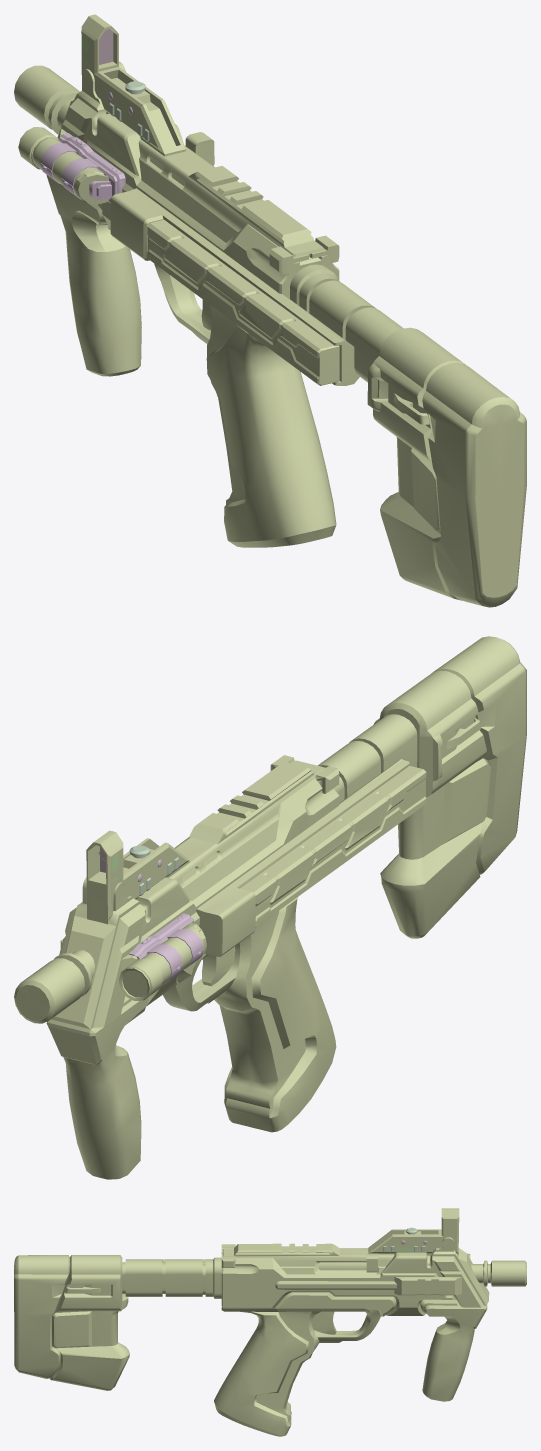
The picture shows the model from 3 angles, top to bottom: view 1: azimuth 30°, elevation 25°; view 2: azimuth 150°, elevation 25°; view 3: azimuth 270°, elevation 25°; orthographic projection. The views are drawn at different scales.
Parts seen in each view (by area): view 1: w_m7a_w_m7_body_base, w_m7a_w_m7_body_mag, w_m7a_w_m7_optic_m7s_reflex, w_m7a_w_m7_att_flashlight, w_m7a_w_m7_barrel; view 2: w_m7a_w_m7_body_base, w_m7a_w_m7_body_mag, w_m7a_w_m7_optic_m7s_reflex, w_m7a_w_m7_att_flashlight, w_m7a_w_m7_barrel; view 3: w_m7a_w_m7_body_base, w_m7a_w_m7_optic_m7s_reflex, w_m7a_w_m7_barrel.
Boxes of the visible parts, box(x1,y1,x2,y2) form: w_m7a_w_m7_body_base: box(46, 61, 526, 607); w_m7a_w_m7_body_mag: box(147, 220, 339, 385); w_m7a_w_m7_optic_m7s_reflex: box(81, 14, 185, 156); w_m7a_w_m7_att_flashlight: box(18, 127, 125, 204); w_m7a_w_m7_barrel: box(14, 65, 79, 134); w_m7a_w_m7_body_base: box(46, 636, 526, 1179); w_m7a_w_m7_body_mag: box(240, 765, 426, 926); w_m7a_w_m7_optic_m7s_reflex: box(86, 830, 189, 924); w_m7a_w_m7_att_flashlight: box(119, 913, 206, 1000); w_m7a_w_m7_barrel: box(14, 950, 94, 1023); w_m7a_w_m7_body_base: box(14, 1237, 489, 1436); w_m7a_w_m7_optic_m7s_reflex: box(368, 1208, 459, 1255); w_m7a_w_m7_barrel: box(471, 1260, 526, 1286).
Bounding box in the file's own units: 292 × 1065 × 2225.
